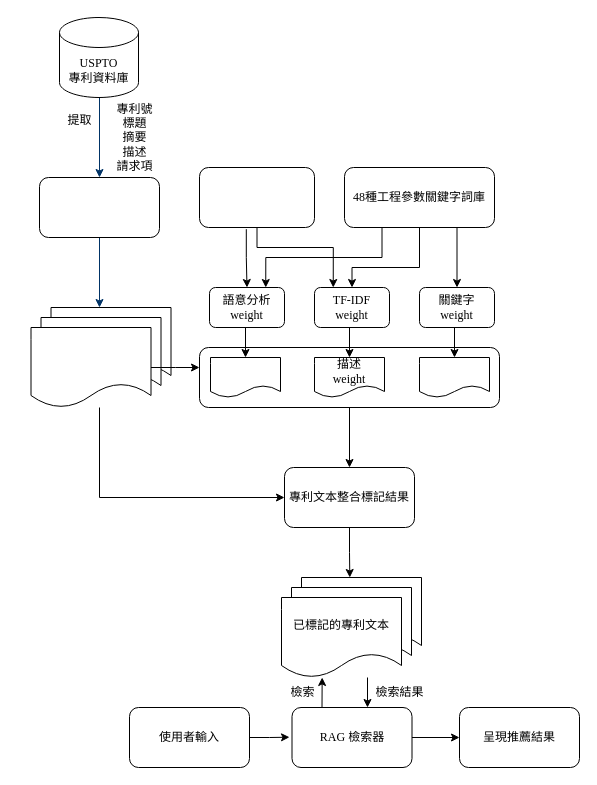
Some shapes in this 597 by 785 pixel diagram are drawn without their labels. The centre of each missing label's shape, as x and y in pixels:
48 種工程參數表: the point at 256,197
摘要 weight: the point at 245,377
未標記的專利文本: the point at 90,367
請求項 weight: the point at 454,377
資料清理: the point at 99,207
